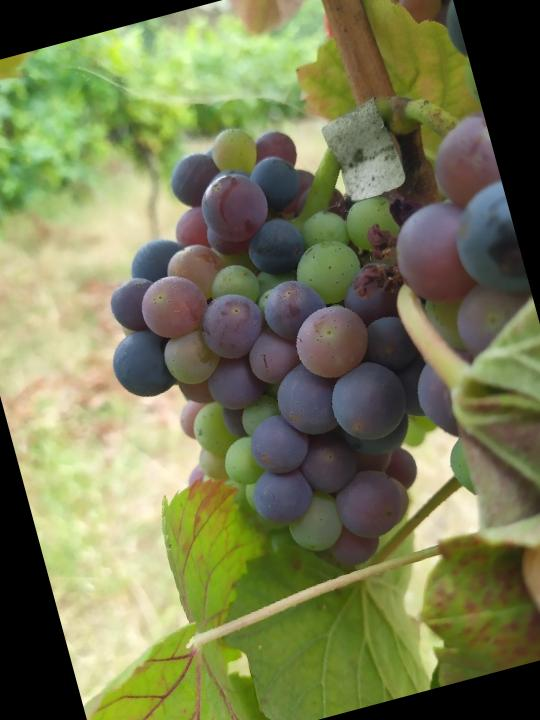grape: (56, 93, 468, 617)
